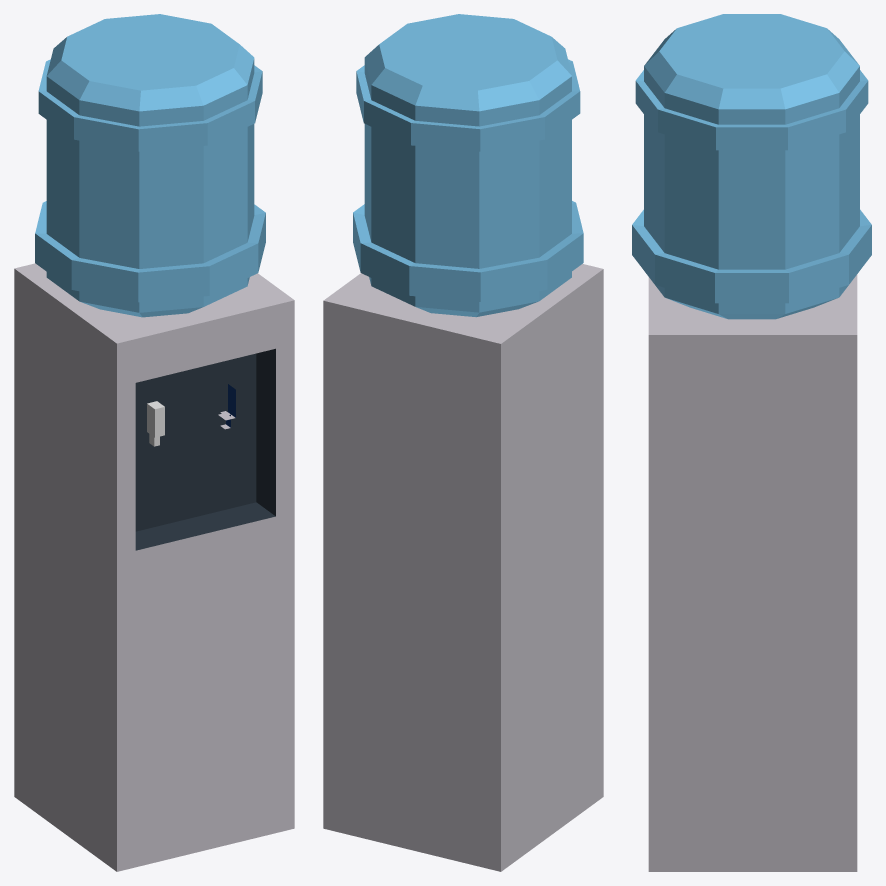
Rendered from Watercan.fbx.
3 views of the same model, side by side, from view 1: azimuth 30°, elevation 25°; view 2: azimuth 150°, elevation 25°; view 3: azimuth 270°, elevation 25° (orthographic).
Parts seen in each view (by area): view 1: Cylinder.024; view 2: Cylinder.024; view 3: Cylinder.024.
Part boxes in pixels (x1,y1,x2,y2): Cylinder.024: (14,14,294,871); Cylinder.024: (323,14,603,871); Cylinder.024: (632,14,871,871).
Bounding box in the file's own units: 84.54 × 317 × 88.89.
